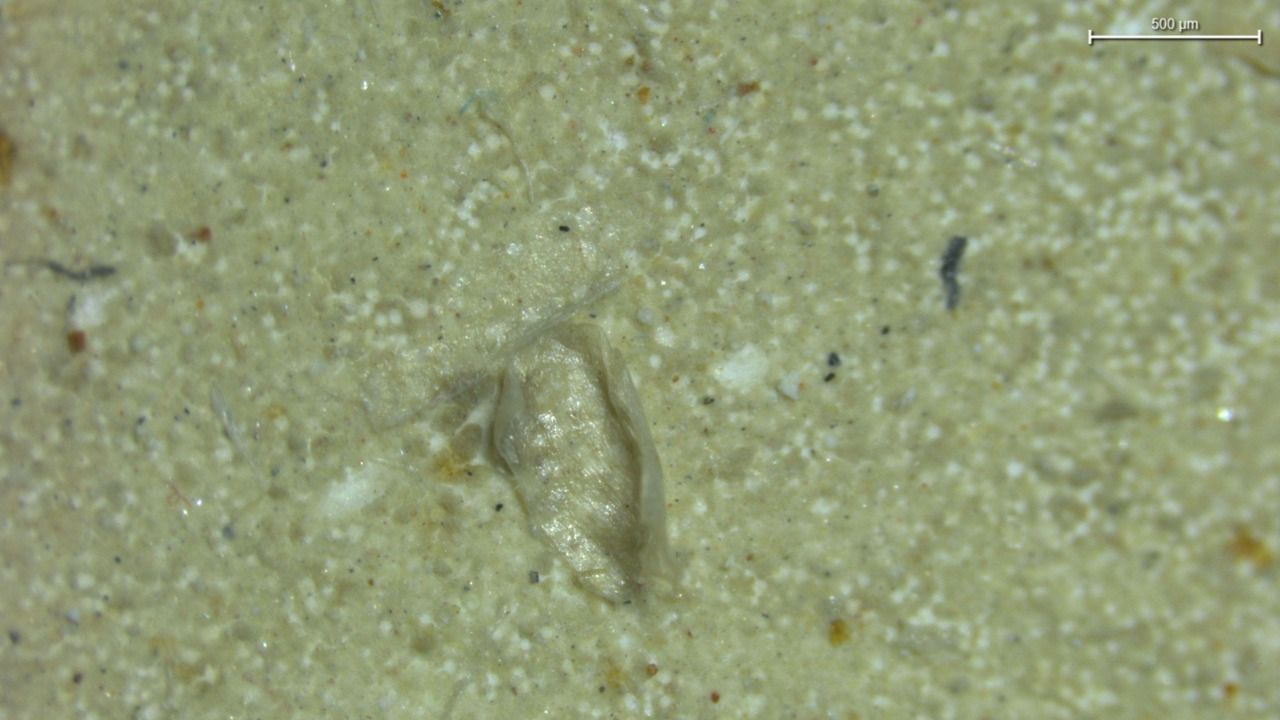microplastic_fragment: (451, 318, 674, 600), (776, 371, 801, 400)
